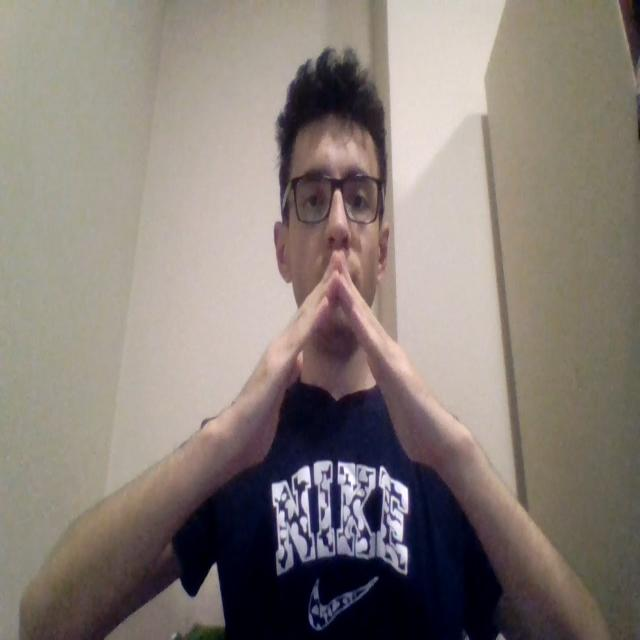house: (225, 252, 440, 466)
